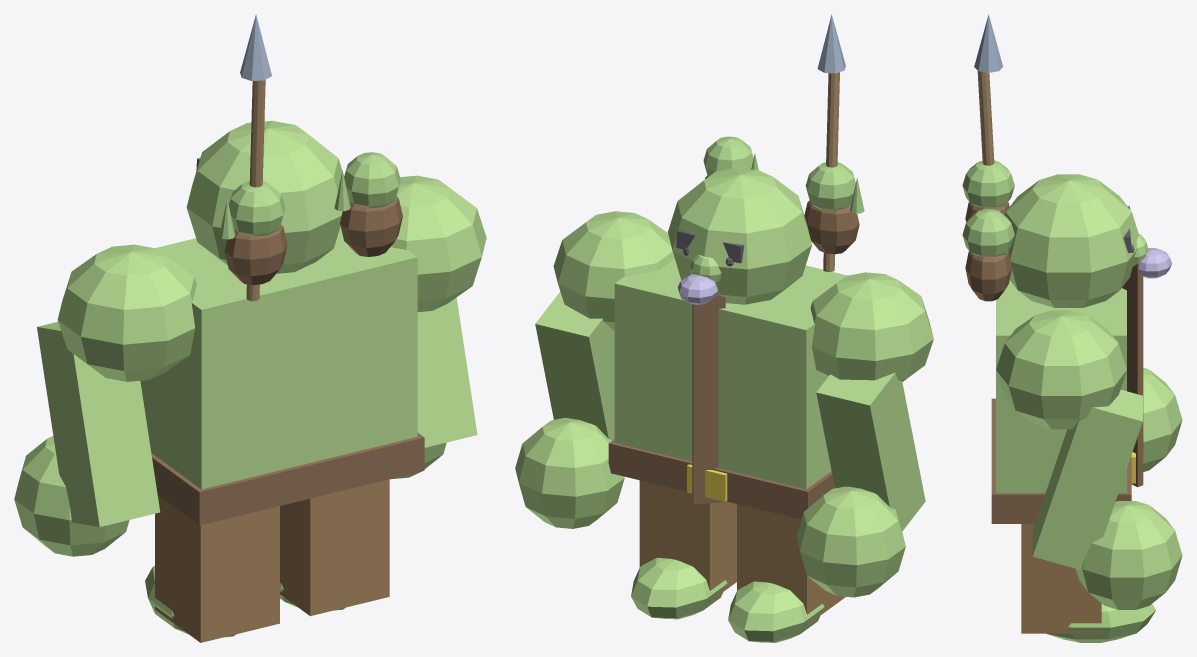
File: goblin_giant.glb
3 renders of one model, left to right at view 1: azimuth 30°, elevation 25°; view 2: azimuth 150°, elevation 25°; view 3: azimuth 270°, elevation 25°, orthographic. The views are drawn at different scales.
Visible parts, largest first — view 1: goblin_giant; view 2: goblin_giant; view 3: goblin_giant.
Boxes of the visible parts, left/top/right/bottom form: goblin_giant: left=14, top=14, right=486, bottom=642; goblin_giant: left=515, top=14, right=933, bottom=642; goblin_giant: left=962, top=14, right=1182, bottom=642.
Bounding box in the file's own units: 3.22 × 4.8 × 1.66.
